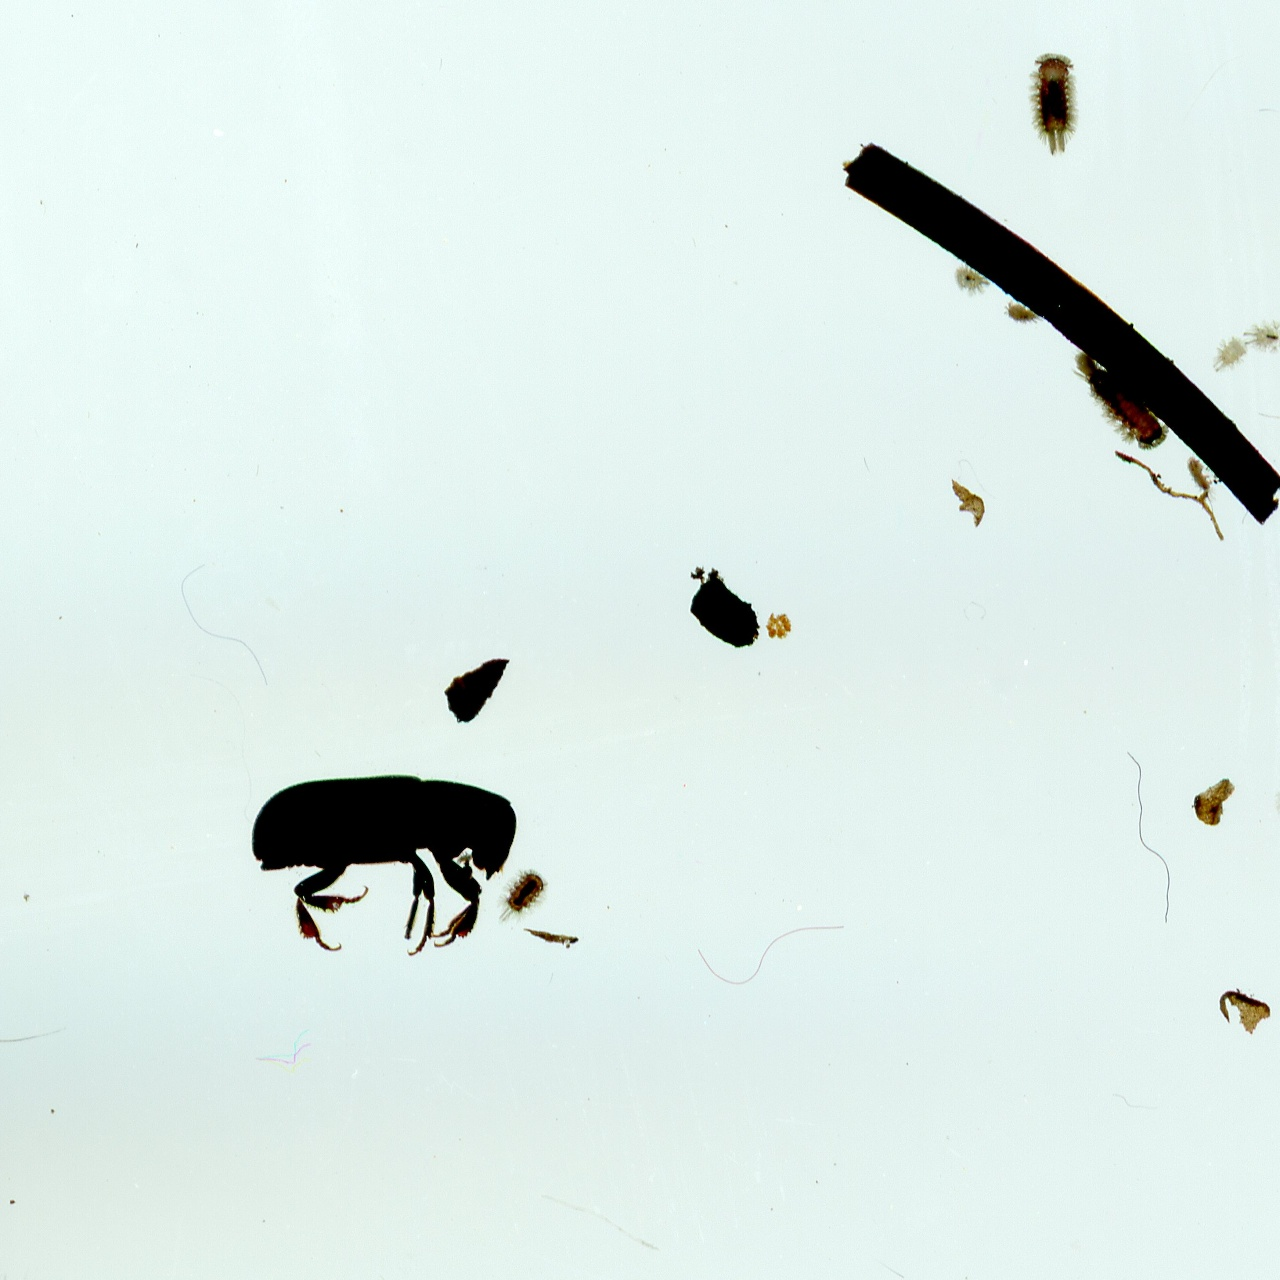arthropod: (239, 767, 523, 952), (1069, 345, 1170, 450), (1028, 46, 1082, 157), (501, 869, 545, 928), (1206, 336, 1246, 372), (1183, 451, 1212, 498), (1005, 298, 1042, 329), (1247, 318, 1280, 353), (955, 263, 987, 294), (1276, 776, 1280, 810)
